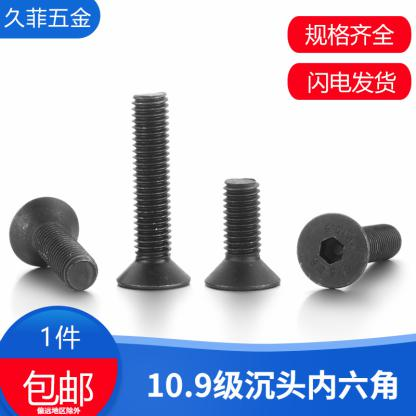FOD: (113, 88, 191, 294), (203, 171, 282, 293), (7, 192, 98, 292), (296, 211, 403, 295)
